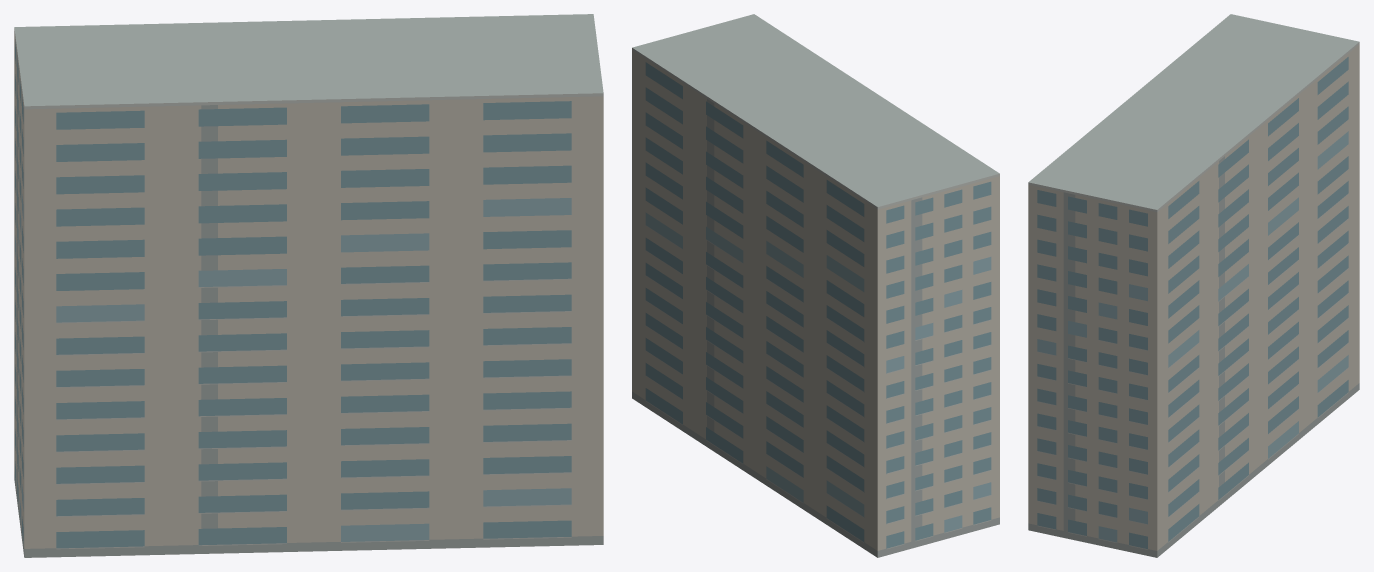
Rendered from residential-1cbd45d5-c595-4f92-aae7-e591f612c478.glb.
The picture shows the model from 3 angles, left to right: view 1: azimuth 30°, elevation 25°; view 2: azimuth 150°, elevation 25°; view 3: azimuth 270°, elevation 25°; orthographic projection. The views are drawn at different scales.
Parts seen in each view (by area): view 1: residential-1cbd45d5-c595-4f92-aae7-e591f612c478.tmp; view 2: residential-1cbd45d5-c595-4f92-aae7-e591f612c478.tmp; view 3: residential-1cbd45d5-c595-4f92-aae7-e591f612c478.tmp.
Part boxes in pixels (box(x1,y1,x2,y2)): residential-1cbd45d5-c595-4f92-aae7-e591f612c478.tmp: box(14, 14, 603, 557); residential-1cbd45d5-c595-4f92-aae7-e591f612c478.tmp: box(632, 14, 999, 557); residential-1cbd45d5-c595-4f92-aae7-e591f612c478.tmp: box(1028, 14, 1359, 557).
Size of the model in its own units: 43.51 by 36 by 31.09.
